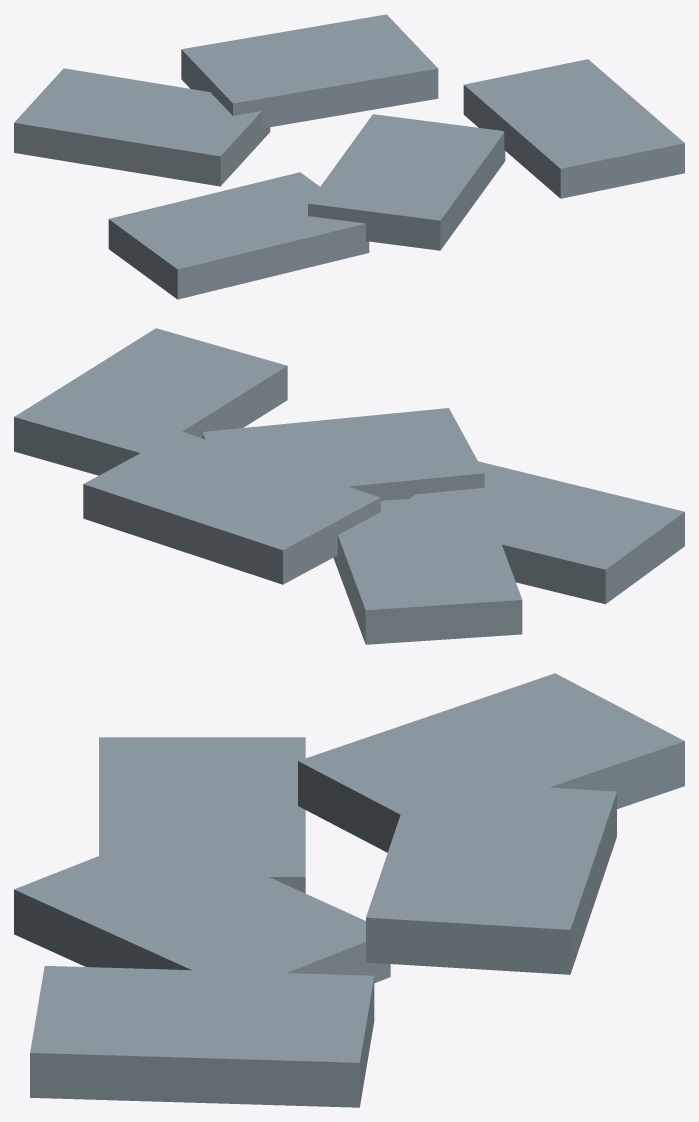
Rendered from debris-glass.glb.
3 views of the same model, one above another, from view 1: azimuth 30°, elevation 25°; view 2: azimuth 150°, elevation 25°; view 3: azimuth 270°, elevation 25° (orthographic). The views are drawn at different scales.
Parts seen in each view (by area): view 1: debris-glass; view 2: debris-glass; view 3: debris-glass.
Part boxes in pixels (bbox=[...]): debris-glass: bbox=[14, 14, 684, 299]; debris-glass: bbox=[14, 328, 684, 644]; debris-glass: bbox=[14, 673, 684, 1107].
Size of the model in its own units: 0.2123 by 0.032 by 0.1624.
Materials: 1 (1 with a texture image).
